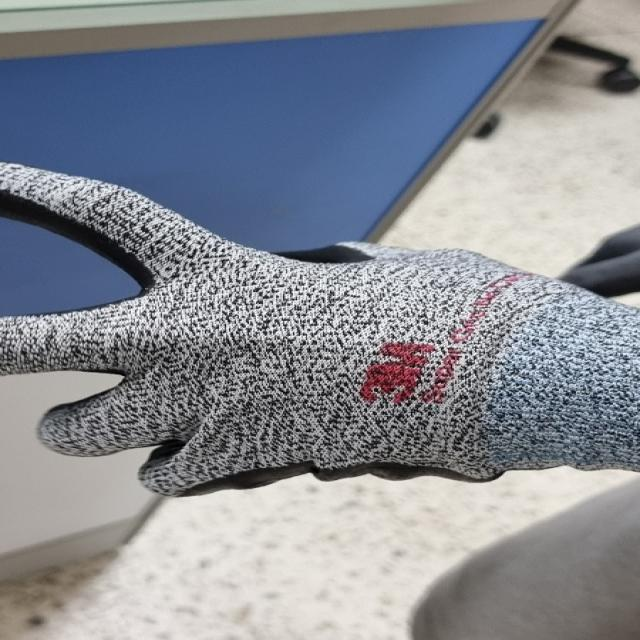Gloves: (0, 161, 606, 503)
